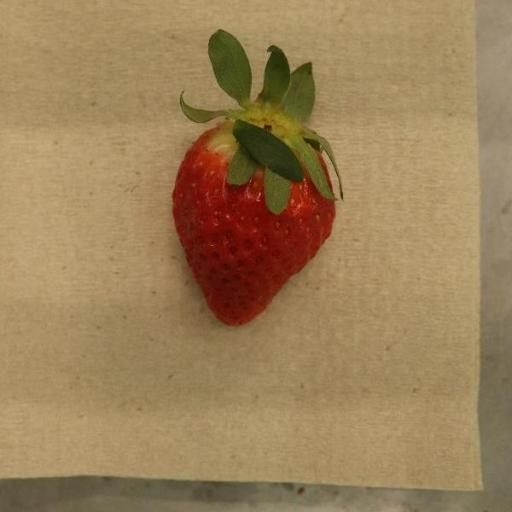Strawberry: (172, 30, 343, 328)
